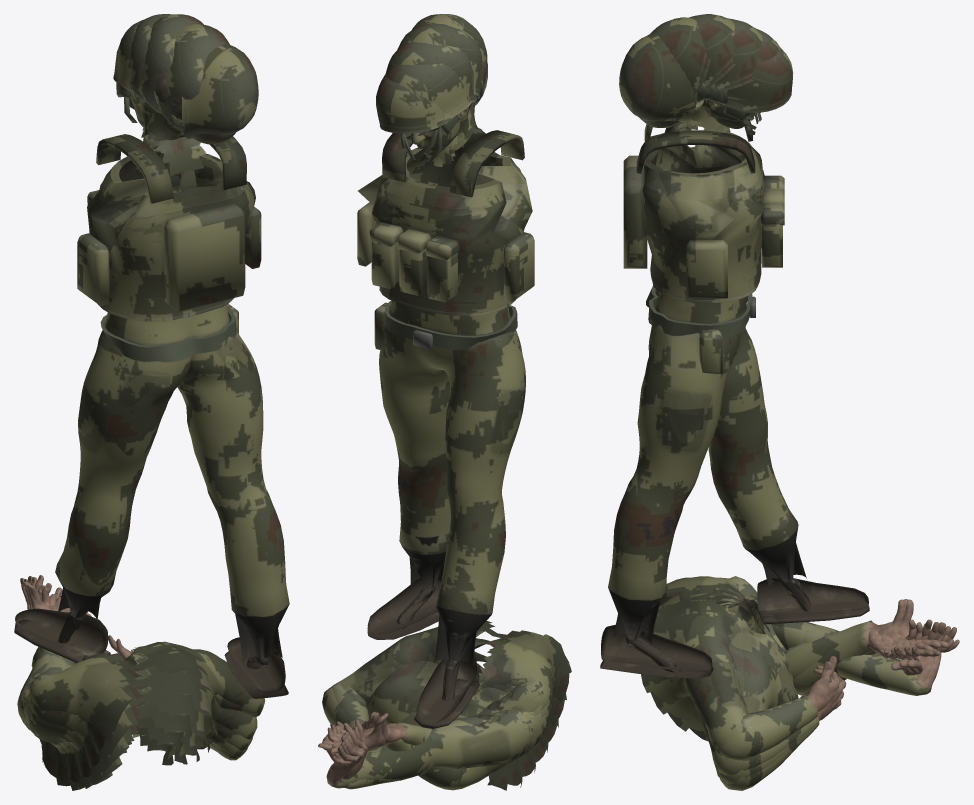
File: crew_strela2.glb
3 views of the same model, side by side, from view 1: azimuth 30°, elevation 25°; view 2: azimuth 150°, elevation 25°; view 3: azimuth 270°, elevation 25° (orthographic). The views are drawn at different scales.
Visible parts, largest first — view 1: turret|STR_ratnik, ca5|STR_ratnik, th5|STR_ratnik, ca4|STR_ratnik, ca3|STR_ratnik, th4|STR_ratnik, ca2|STR_ratnik, th3|STR_ratnik, ca0|STR_ratnik, ca1|STR_ratnik, th0|STR_ratnik, th1|STR_ratnik (+1 smaller); view 2: turret|STR_ratnik, ca0|STR_ratnik, ca5|STR_ratnik, th0|STR_ratnik, ca3|STR_ratnik, th1|STR_ratnik, ca4|STR_ratnik, th2|STR_ratnik, ca2|STR_ratnik, th3|STR_ratnik, th4|STR_ratnik, ca1|STR_ratnik (+1 smaller); view 3: turret|STR_ratnik, ca5|STR_ratnik, ca4|STR_ratnik, th5|STR_ratnik, ca0|STR_ratnik, ca1|STR_ratnik, ca3|STR_ratnik, th0|STR_ratnik, ca2|STR_ratnik, th4|STR_ratnik, th3|STR_ratnik, th2|STR_ratnik (+1 smaller).
Part boxes in pixels (left/top/right/bottom): turret|STR_ratnik: left=14, top=134, right=289, bottom=698; ca5|STR_ratnik: left=24, top=582, right=264, bottom=761; th5|STR_ratnik: left=141, top=44, right=258, bottom=166; ca4|STR_ratnik: left=26, top=584, right=264, bottom=767; ca3|STR_ratnik: left=22, top=581, right=257, bottom=779; th4|STR_ratnik: left=143, top=24, right=229, bottom=175; ca2|STR_ratnik: left=23, top=575, right=252, bottom=788; th3|STR_ratnik: left=138, top=14, right=204, bottom=175; ca0|STR_ratnik: left=17, top=576, right=240, bottom=786; ca1|STR_ratnik: left=24, top=577, right=248, bottom=790; th0|STR_ratnik: left=113, top=47, right=205, bottom=176; th1|STR_ratnik: left=117, top=19, right=205, bottom=175; turret|STR_ratnik: left=357, top=130, right=534, bottom=728; ca0|STR_ratnik: left=322, top=671, right=533, bottom=790; ca5|STR_ratnik: left=328, top=620, right=571, bottom=749; th0|STR_ratnik: left=376, top=71, right=485, bottom=166; ca3|STR_ratnik: left=318, top=651, right=558, bottom=790; th1|STR_ratnik: left=386, top=63, right=484, bottom=166; ca4|STR_ratnik: left=322, top=638, right=566, bottom=747; th2|STR_ratnik: left=386, top=42, right=484, bottom=164; ca2|STR_ratnik: left=343, top=663, right=548, bottom=789; th3|STR_ratnik: left=397, top=23, right=485, bottom=163; th4|STR_ratnik: left=412, top=14, right=487, bottom=166; ca1|STR_ratnik: left=326, top=665, right=535, bottom=778; turret|STR_ratnik: left=600, top=120, right=869, bottom=678; ca5|STR_ratnik: left=647, top=576, right=933, bottom=748; ca4|STR_ratnik: left=641, top=588, right=940, bottom=760; th5|STR_ratnik: left=619, top=32, right=730, bottom=133; ca0|STR_ratnik: left=727, top=601, right=959, bottom=790; ca1|STR_ratnik: left=689, top=602, right=953, bottom=788; ca3|STR_ratnik: left=650, top=593, right=948, bottom=775; th0|STR_ratnik: left=664, top=48, right=793, bottom=134; ca2|STR_ratnik: left=667, top=600, right=948, bottom=783; th4|STR_ratnik: left=650, top=17, right=728, bottom=133; th3|STR_ratnik: left=671, top=14, right=735, bottom=132; th2|STR_ratnik: left=673, top=18, right=762, bottom=132.
Size of the model in its own units: 0.676 by 2.15 by 0.9471.
13 materials, 13 textured.
